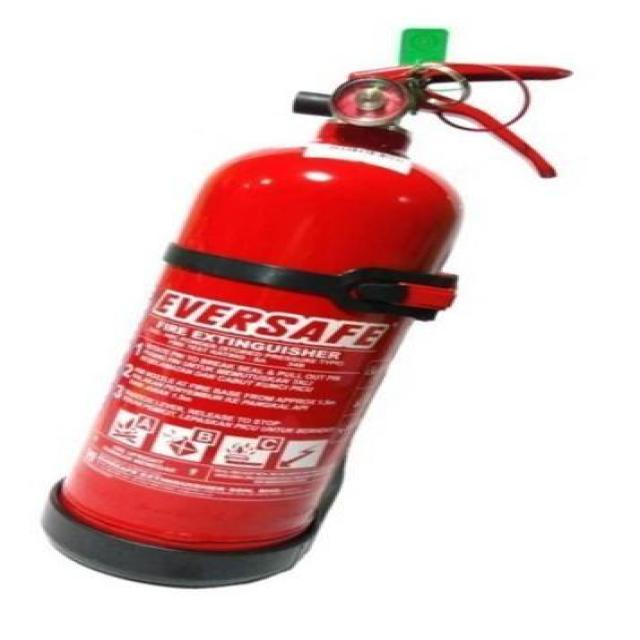fire_extinguisher: (33, 24, 578, 590)
